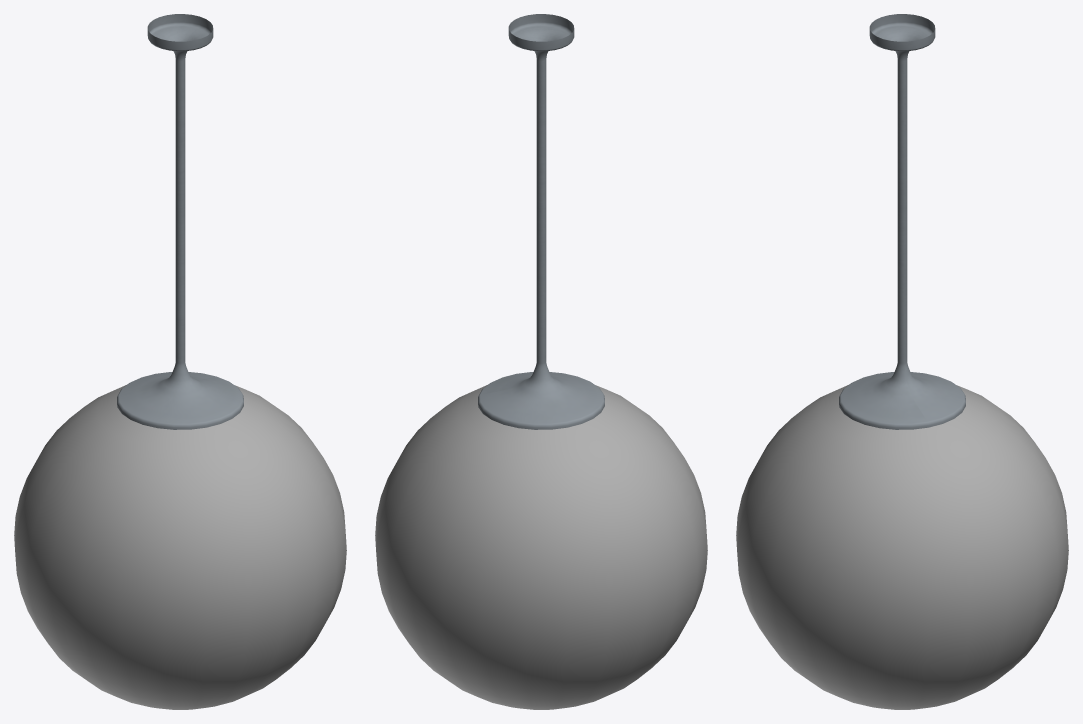
The model's file is En_P_RoofLamp.fbx.
The picture shows the model from 3 angles, left to right: view 1: azimuth 30°, elevation 25°; view 2: azimuth 150°, elevation 25°; view 3: azimuth 270°, elevation 25°; orthographic projection.
Parts seen in each view (by area): view 1: En_P_RoofLamp; view 2: En_P_RoofLamp; view 3: En_P_RoofLamp.
Boxes of the visible parts, x1=… form: En_P_RoofLamp: x1=14, y1=14, x2=346, y2=709; En_P_RoofLamp: x1=375, y1=14, x2=707, y2=709; En_P_RoofLamp: x1=736, y1=14, x2=1068, y2=709.
Bounding box in the file's own units: 34.89 × 77.14 × 34.89.
